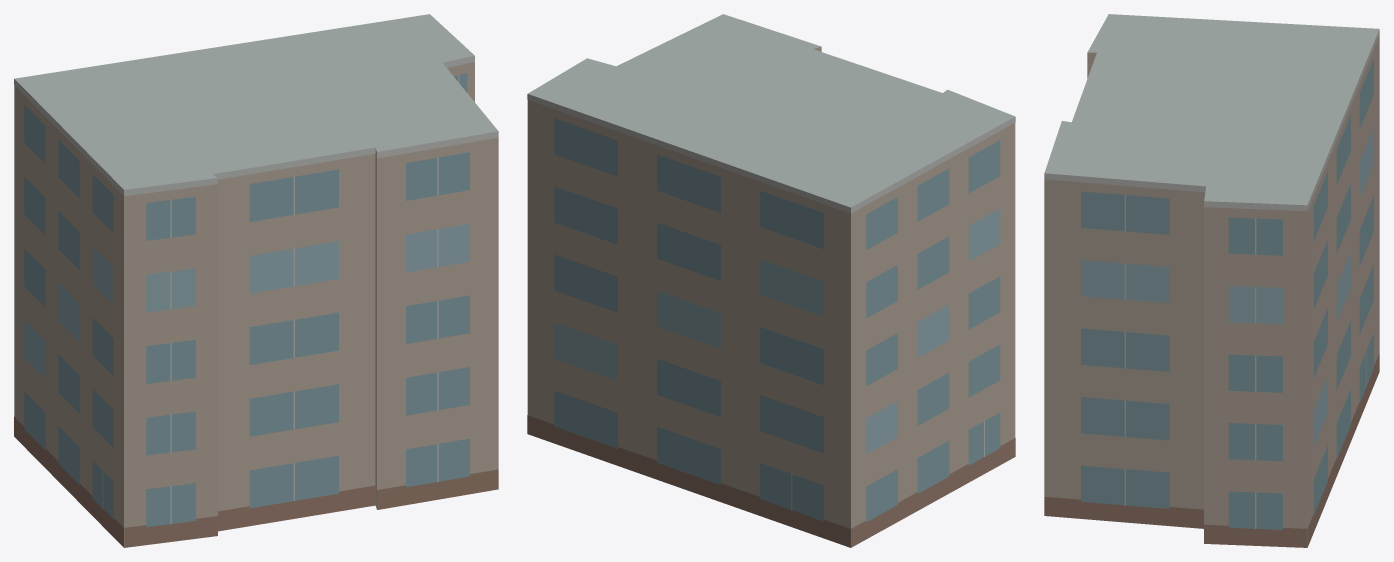
The model's file is survey-upis-33007027.glb.
3 renders of one model, left to right at view 1: azimuth 30°, elevation 25°; view 2: azimuth 150°, elevation 25°; view 3: azimuth 270°, elevation 25°, orthographic. The views are drawn at different scales.
Parts seen in each view (by area): view 1: survey-upis-33007027.tmp; view 2: survey-upis-33007027.tmp; view 3: survey-upis-33007027.tmp.
Part boxes in pixels (x1=…): survey-upis-33007027.tmp: x1=14, y1=14, x2=498, y2=547; survey-upis-33007027.tmp: x1=527, y1=14, x2=1015, y2=547; survey-upis-33007027.tmp: x1=1044, y1=14, x2=1379, y2=547.
Size of the model in its own units: 16.65 by 13.9 by 12.34.
